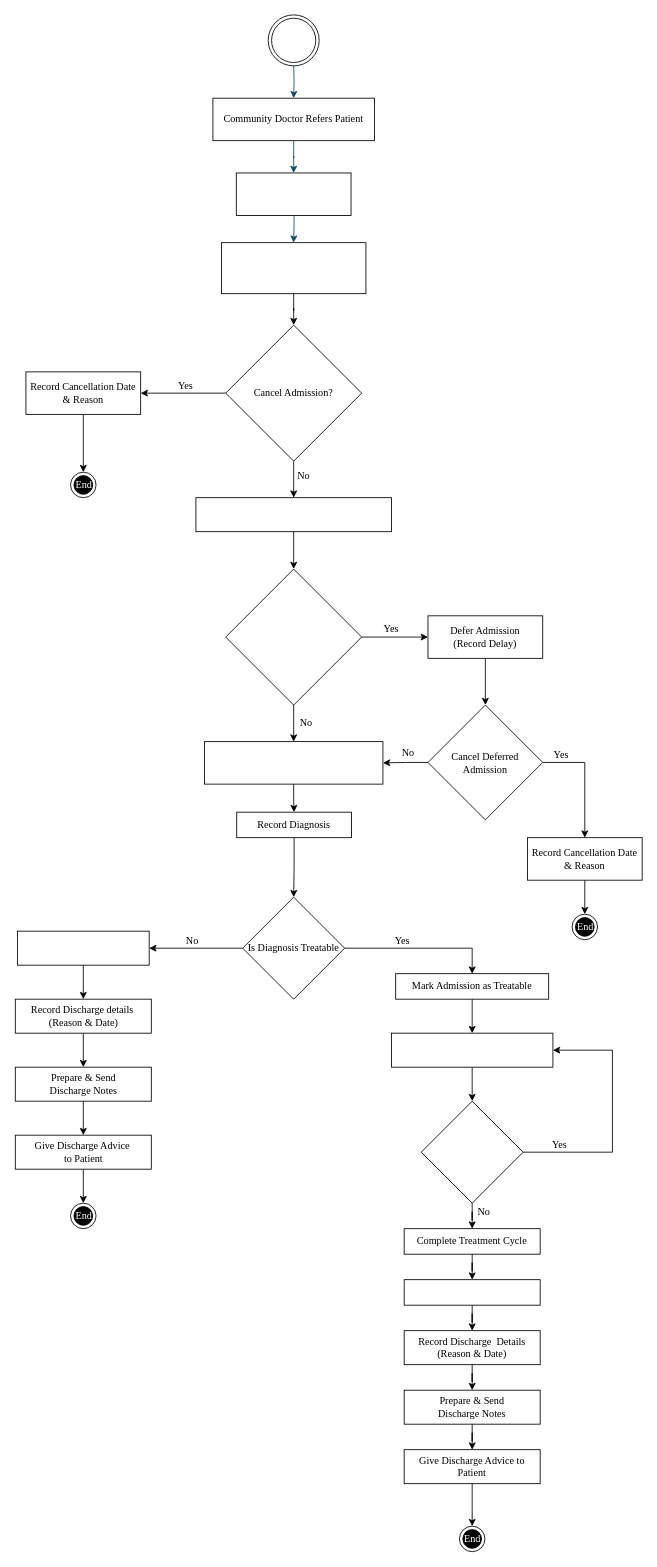
Image size: 657x1567. Some labels were removed from this diagram. The centre of each missing label's shape, as x and y in pixels:
"Create Planned Admission & Send planned admission date" goes at (x=293, y=268).
"Discharge Patient" goes at (x=471, y=1292).
"Discharge Patient (No Treatable Diagnosis)" goes at (x=83, y=947).
"Hospital Doctor Offers Admission Date" goes at (x=293, y=514).
"More Treatment Required?" goes at (x=471, y=1151).
"Need to Delay" goes at (x=293, y=636).
"Patient Arrive Activate Admission (Record Admission Date)" goes at (x=293, y=762).
"Provide Treatment (Surgery / Medication / Both)" goes at (x=472, y=1049).
"Start" goes at (x=293, y=40).
"Verify patient details" goes at (x=293, y=193).
